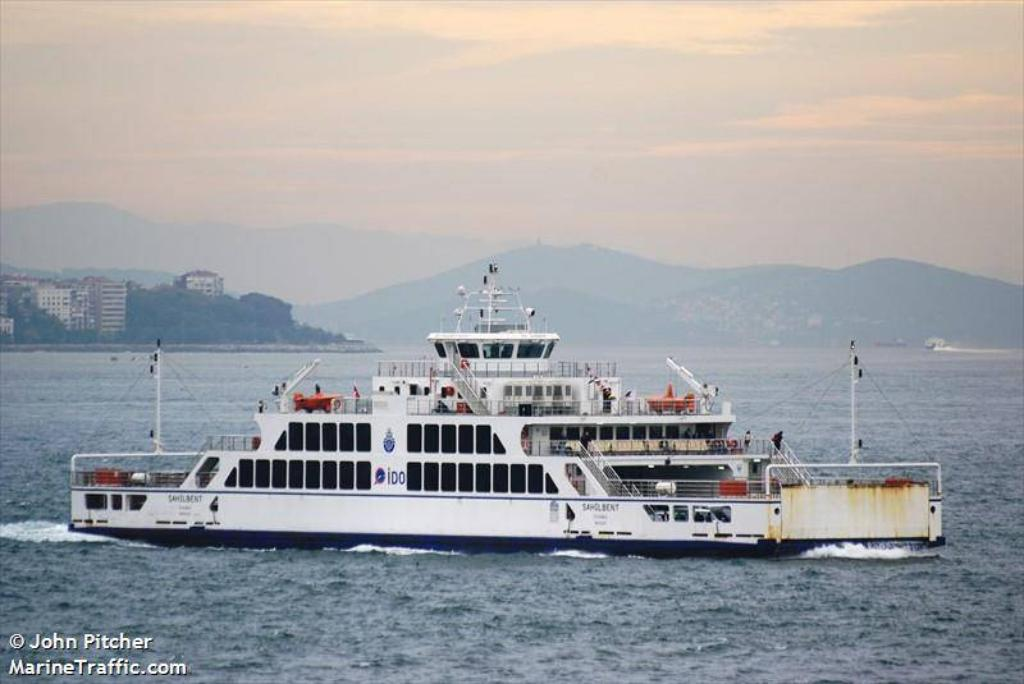PassengerShip: (64, 256, 952, 558)
